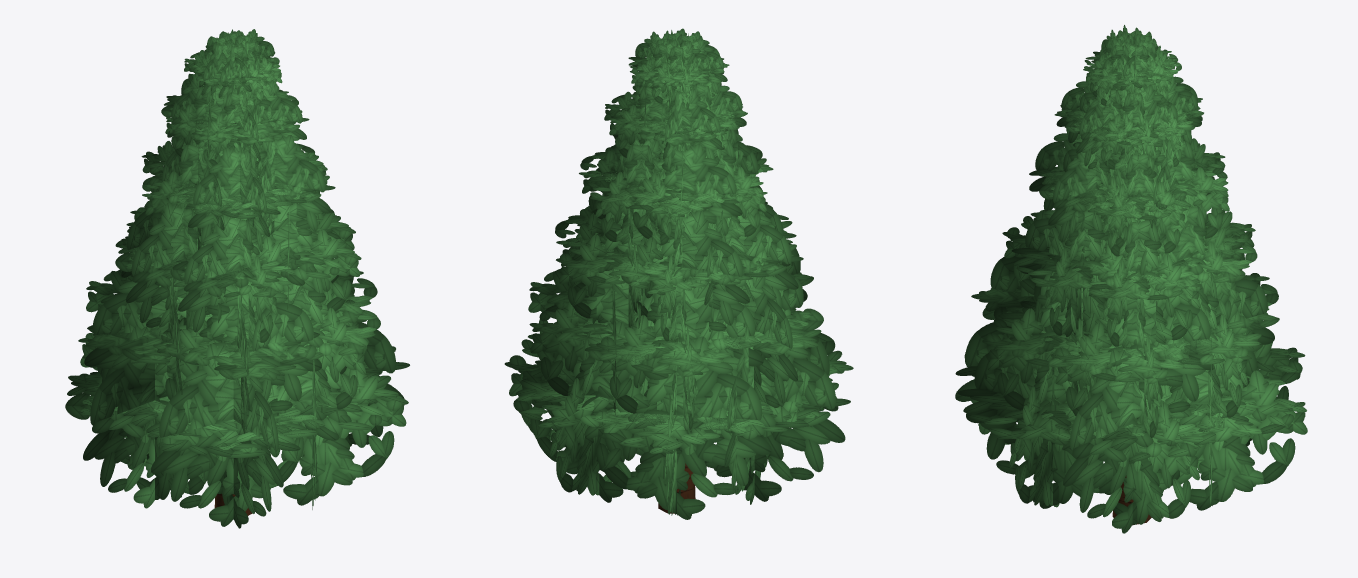
The model's file is flora_pine.glb.
3 views of the same model, side by side, from view 1: azimuth 30°, elevation 25°; view 2: azimuth 150°, elevation 25°; view 3: azimuth 270°, elevation 25° (orthographic). The views are drawn at different scales.
Parts seen in each view (by area): view 1: Crown; view 2: Crown; view 3: Crown.
Boxes of the visible parts, x1,y1,x2,y2 form: Crown: (65, 29, 409, 528); Crown: (504, 28, 853, 519); Crown: (955, 25, 1307, 533).
Size of the model in its own units: 5.83 by 6.95 by 5.58.
2 materials, 2 textured.
